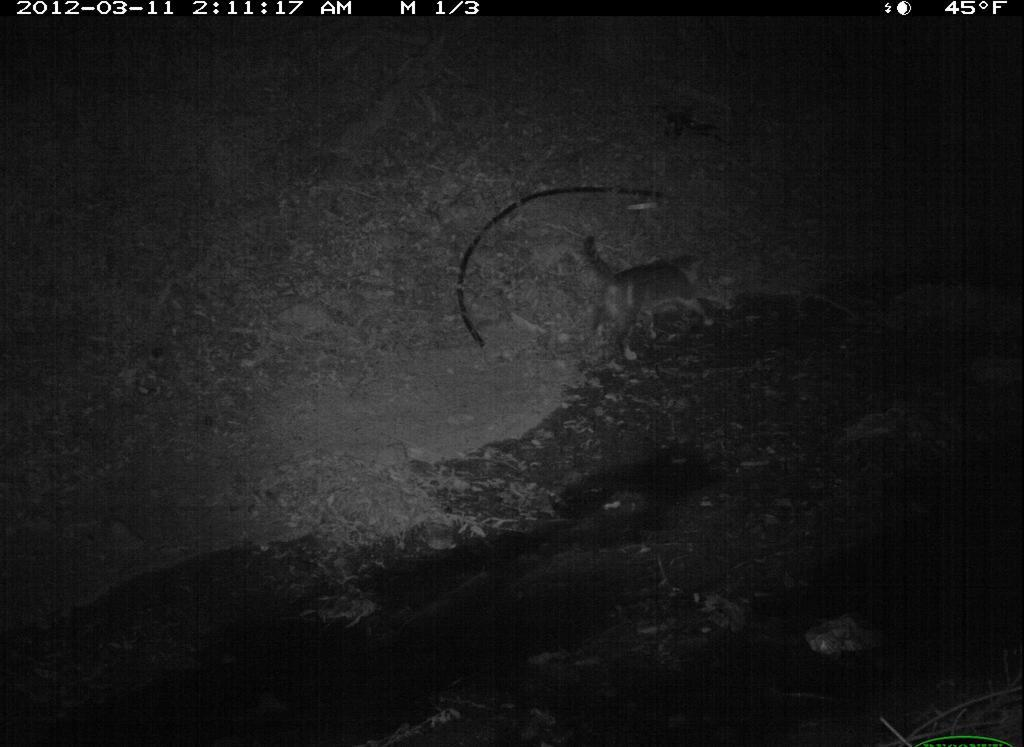cat: (569, 231, 735, 370)
